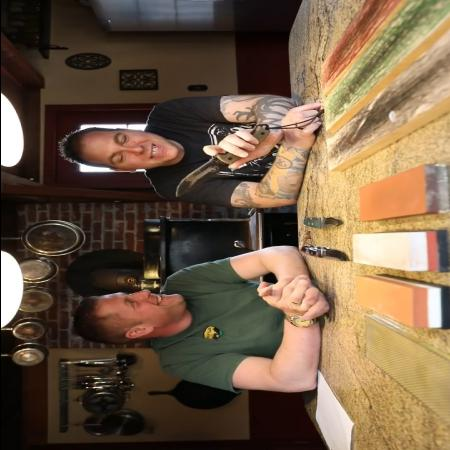long weapon: (166, 140, 252, 202)
